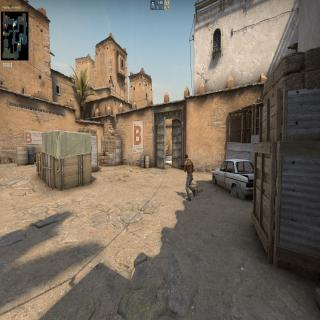T-Head: (184, 153, 188, 161)
